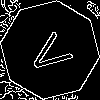V: (25, 25, 82, 79)
